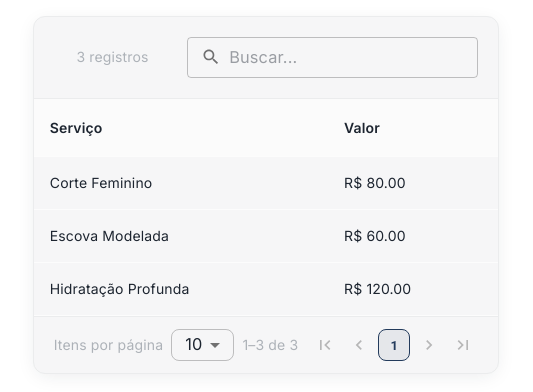
DataTable Component › shows emptyMessage when no rows match the search filter
Type "InexistenteXYZ" into the field with placeholder "Buscar..." at (354, 57), box [229, 37, 478, 78]
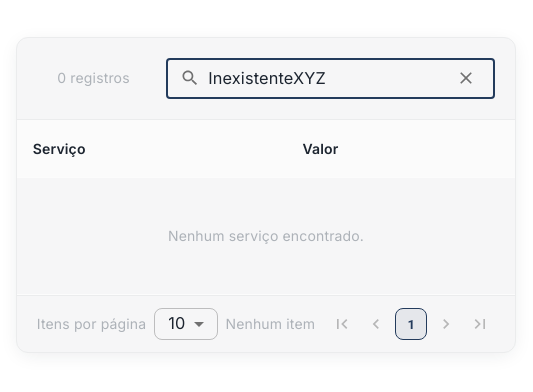
Expected: the text "Nenhum serviço encontrado." is shown, [168, 227, 364, 244]
